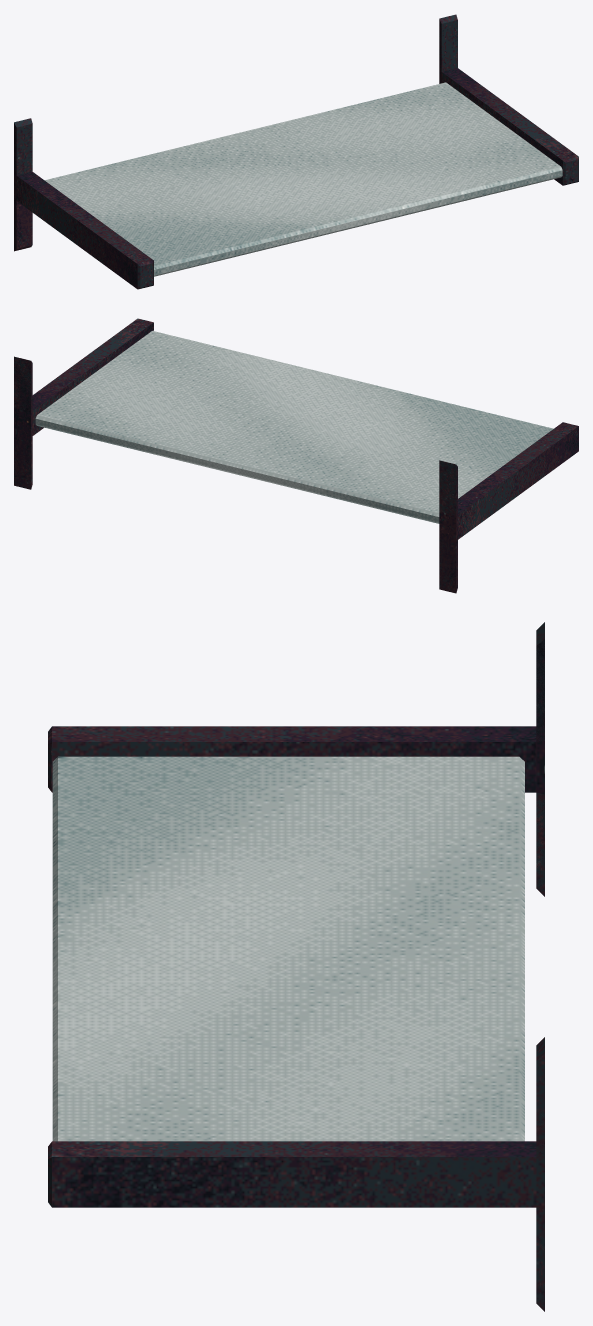
Rendered from cell_table.glb.
3 renders of one model, top to bottom at view 1: azimuth 30°, elevation 25°; view 2: azimuth 150°, elevation 25°; view 3: azimuth 270°, elevation 25°, orthographic. The views are drawn at different scales.
Parts seen in each view (by area): view 1: Cube; view 2: Cube; view 3: Cube.
Part boxes in pixels (left/top/right/bottom): Cube: left=14, top=14, right=578, bottom=289; Cube: left=14, top=318, right=578, bottom=593; Cube: left=48, top=622, right=544, bottom=1311.
Bounding box in the file's own units: 2.16 × 0.603 × 1.05.
Materials: 2 (2 with a texture image).
